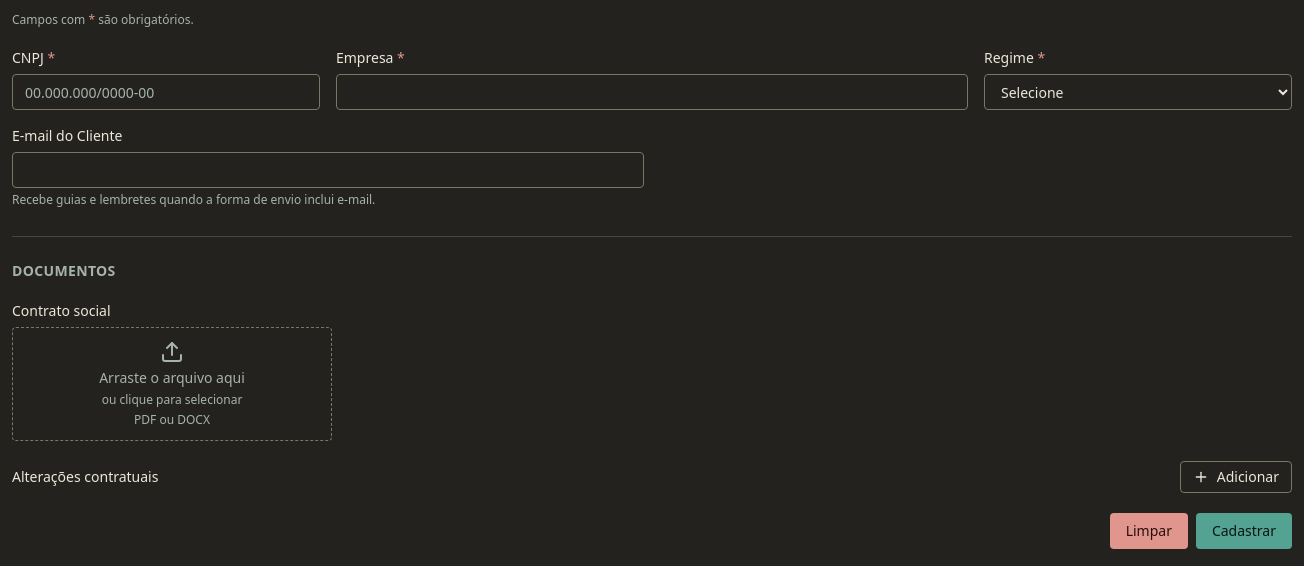
Scenario: CriarClienteContainer › aplica a máscara de CNPJ enquanto digita
In the field labelled "CNPJ *": (166, 92) [12, 74, 320, 110], type "11444777000161"
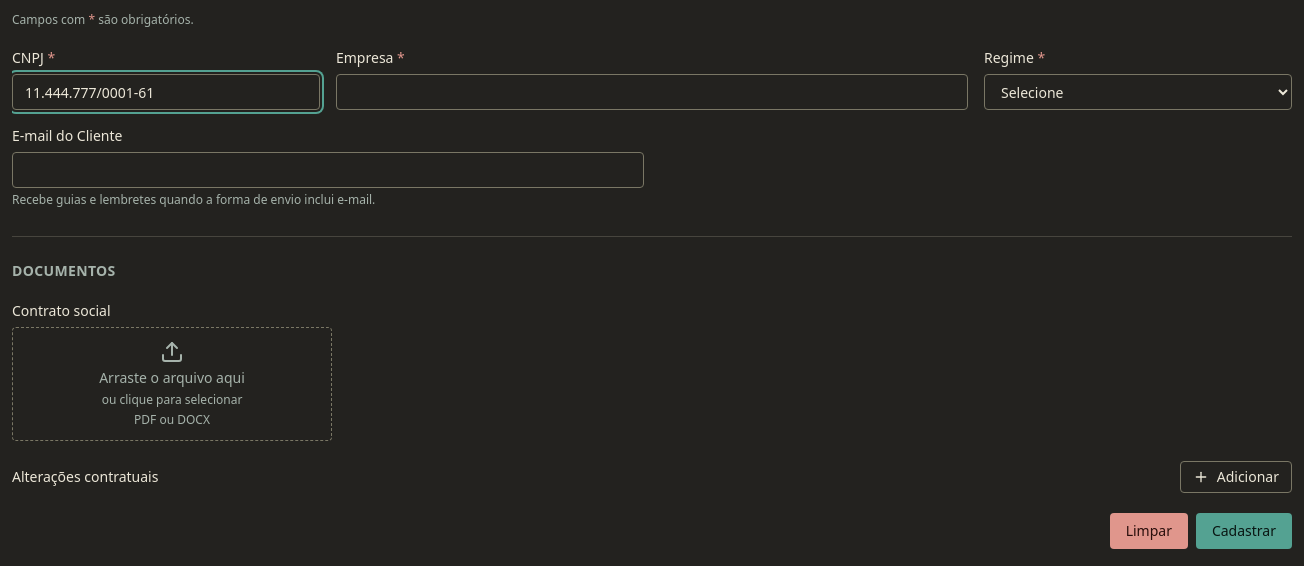
Check: the field labelled "CNPJ *" holds "11.444.777/0001-61", box [12, 74, 320, 110]
